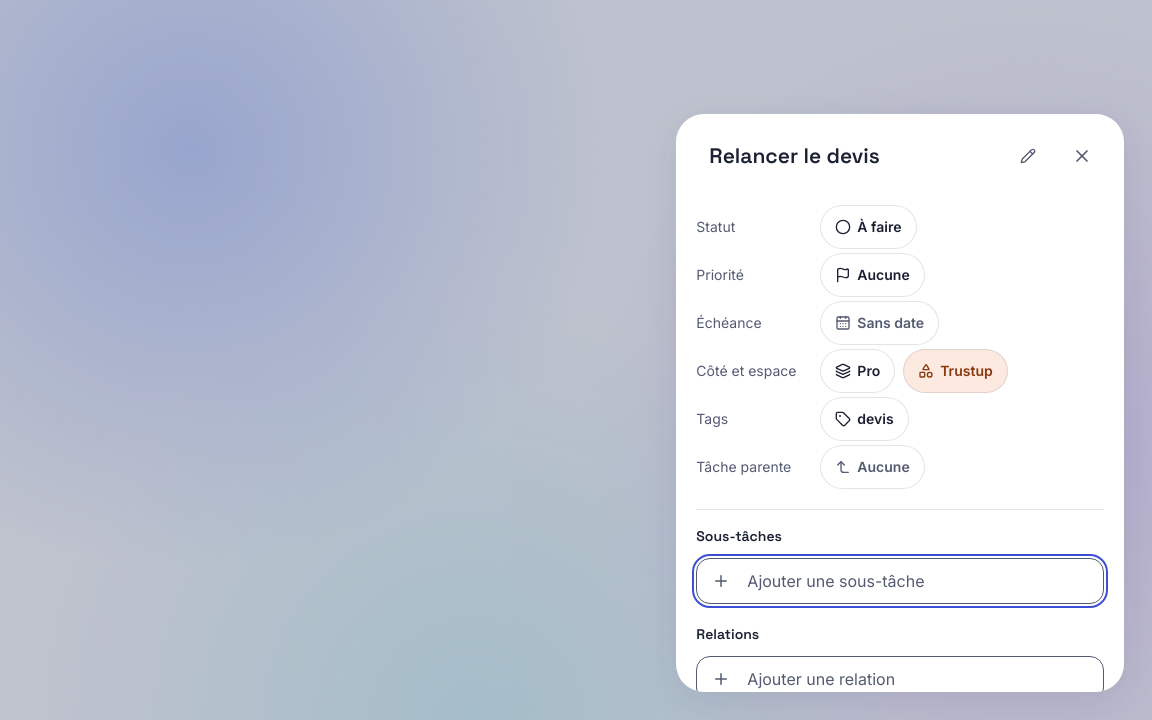
Test: détail : sous-tâches › sans aucune sous-tâche : le champ est là, sur une ligne à icône « + », focus gardé après l'ajout
Expected: the icon with class "lucide-plus" below "Sous-tâches" is shown, [712,572,730,590]
Type "Préparer le devis" into the field labelled "Ajouter une sous-tâche" at (918, 581), box [747,559,1089,603]
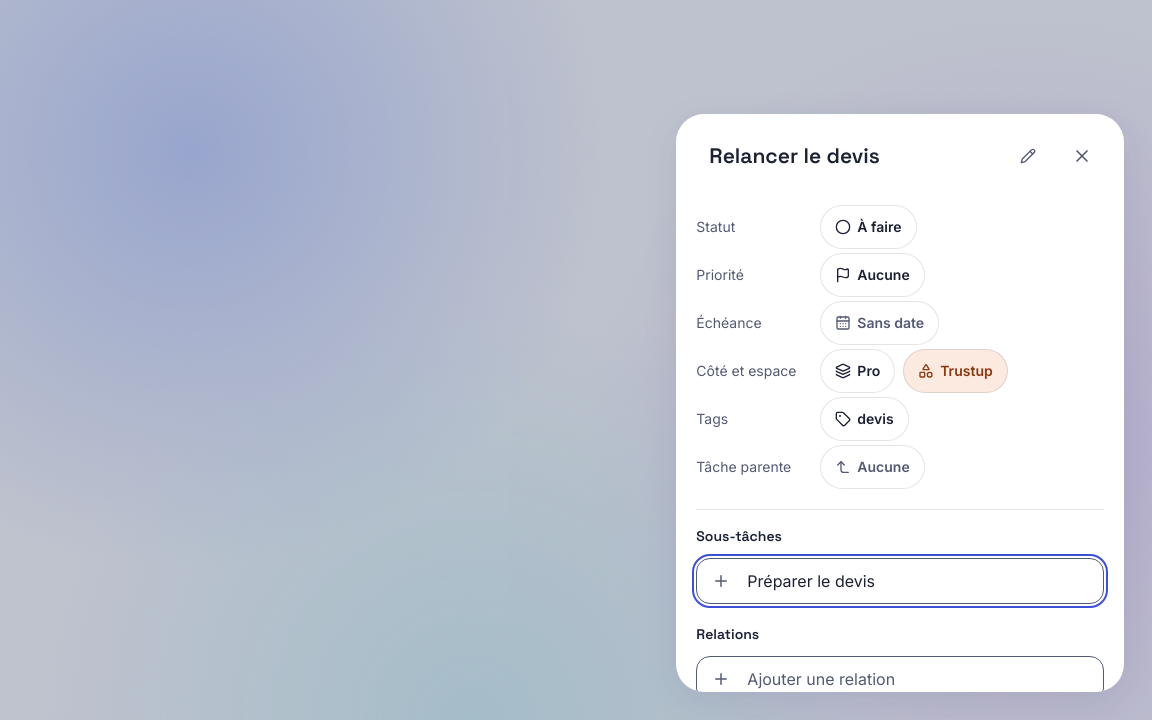
Submit the form named "Ajouter une sous-tâche", box [696,558,1104,604]
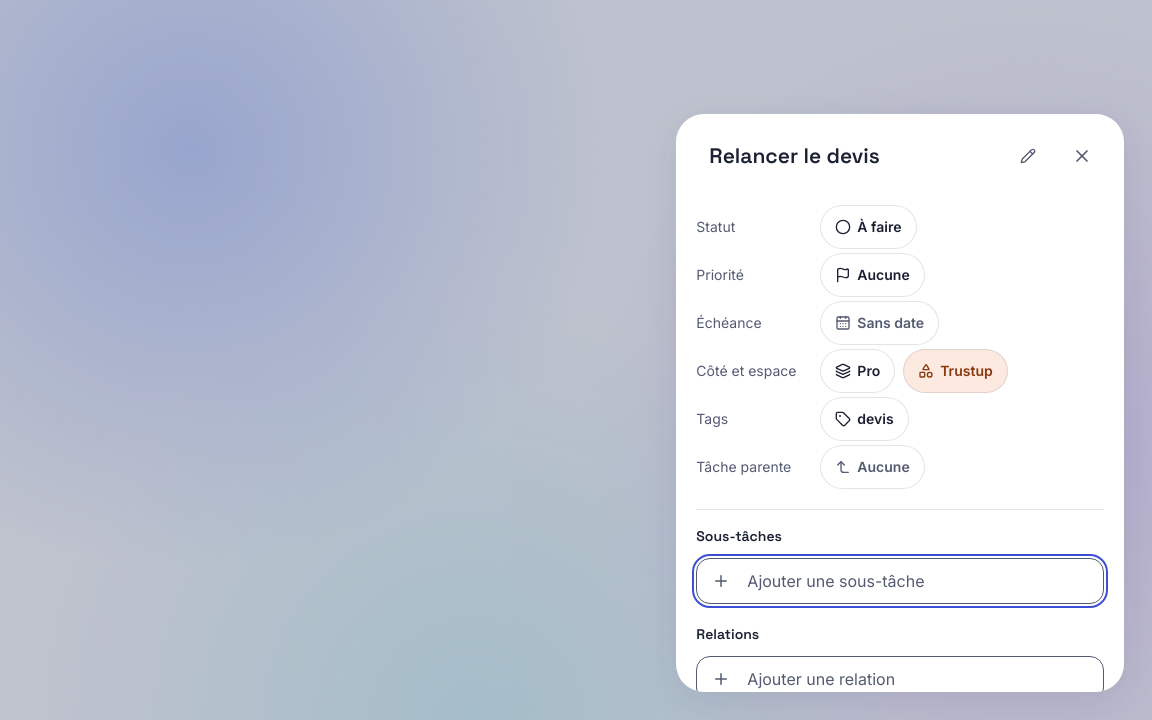
Result: the field labelled "Ajouter une sous-tâche" is empty at [747,559,1089,603]
